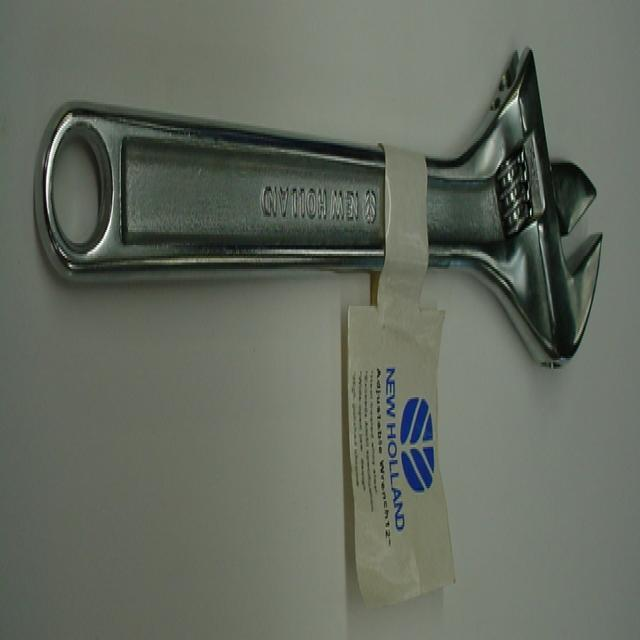wrench: (28, 36, 609, 379)
